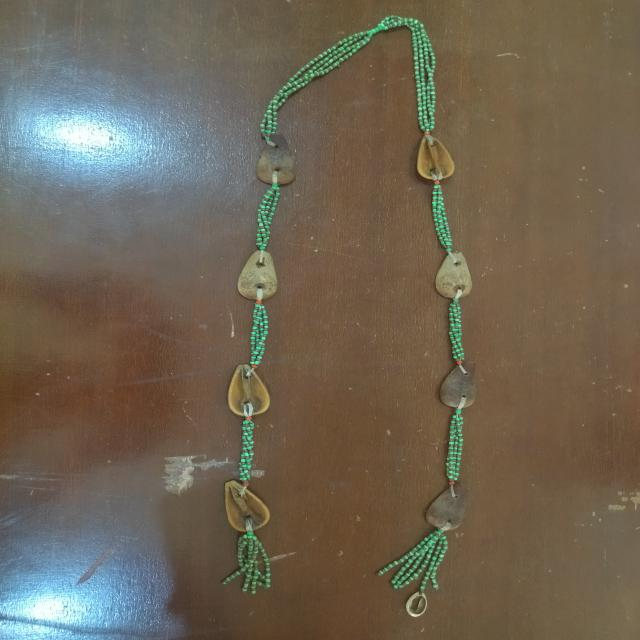facedown: (232, 243, 290, 308), (429, 352, 486, 418), (416, 474, 474, 536), (248, 128, 305, 190), (429, 244, 481, 310)
faceup: (208, 476, 276, 538), (219, 357, 278, 427), (408, 126, 464, 190)
